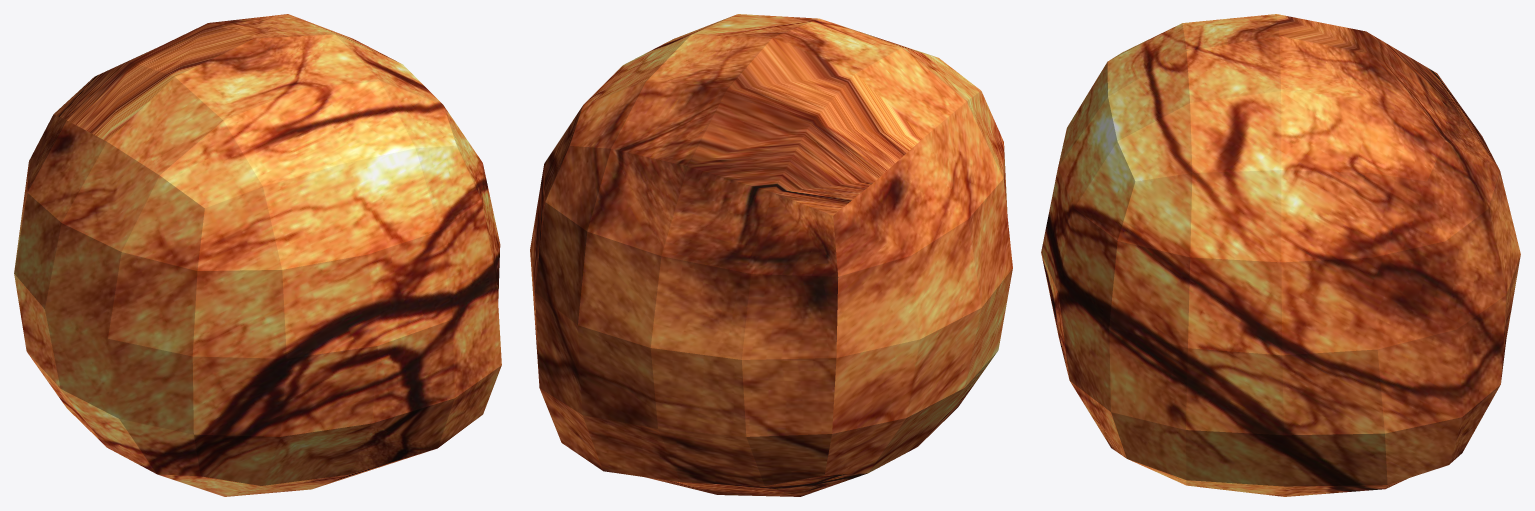
Rendered from sm_fleshsac_1.glb.
3 renders of one model, left to right at view 1: azimuth 30°, elevation 25°; view 2: azimuth 150°, elevation 25°; view 3: azimuth 270°, elevation 25°, orthographic.
Visible parts, largest first — view 1: sm_fleshsac_1; view 2: sm_fleshsac_1; view 3: sm_fleshsac_1.
Boxes of the visible parts, x1=… form: sm_fleshsac_1: x1=14, y1=14, x2=501, y2=496; sm_fleshsac_1: x1=530, y1=14, x2=1012, y2=496; sm_fleshsac_1: x1=1041, y1=14, x2=1520, y2=496.
Size of the model in its own units: 7.58 by 7.5 by 7.59.
Materials: 1 (1 with a texture image).
